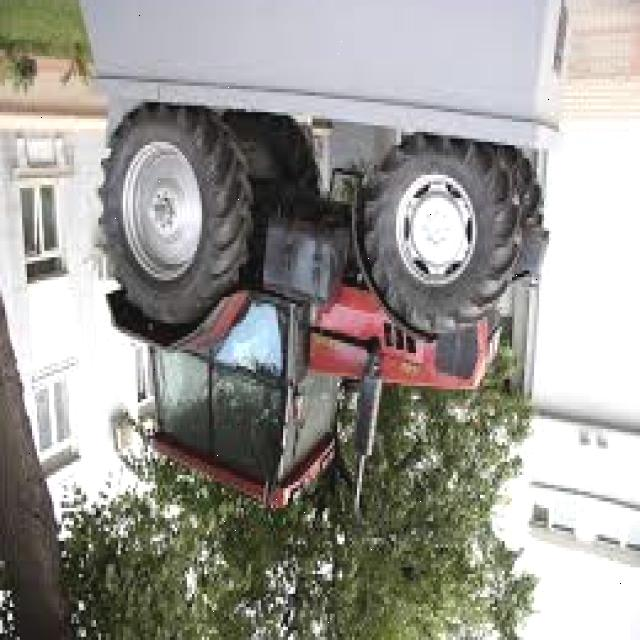Tratores - v5 YOLO V8L 2024-11-13: (103, 116, 583, 528)
